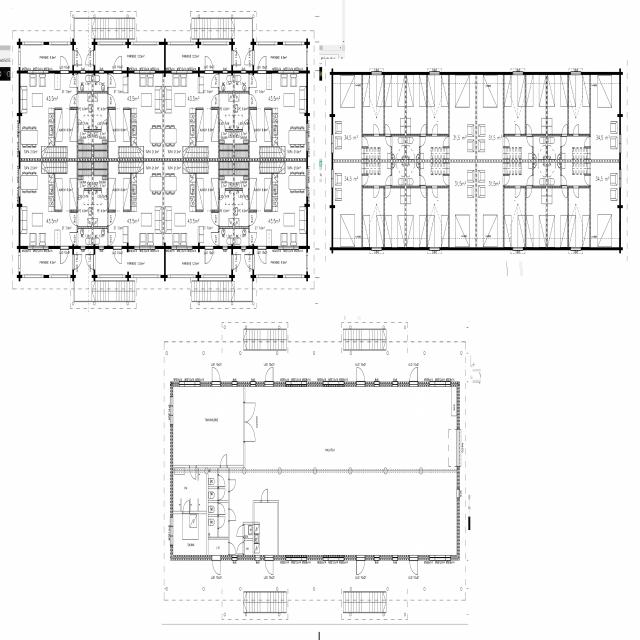door: (243, 422, 256, 442), (243, 403, 256, 422), (356, 555, 364, 575), (212, 367, 220, 387), (265, 367, 273, 387), (356, 367, 364, 387), (410, 367, 418, 387), (85, 254, 95, 270), (410, 555, 418, 574), (265, 555, 273, 574), (212, 555, 220, 574), (231, 50, 241, 65), (72, 255, 82, 269), (72, 50, 82, 64), (231, 255, 241, 269), (60, 246, 68, 263), (114, 246, 122, 263), (205, 246, 213, 263), (258, 246, 266, 263), (60, 56, 68, 73), (114, 56, 122, 73), (205, 56, 213, 73), (258, 56, 266, 73), (86, 50, 95, 65), (107, 74, 116, 88), (245, 255, 254, 269), (245, 50, 254, 64), (248, 94, 257, 107), (107, 233, 116, 245), (70, 232, 78, 245), (70, 213, 78, 226), (108, 94, 116, 107), (70, 94, 78, 107), (211, 74, 219, 87), (211, 94, 219, 107), (248, 232, 256, 245), (211, 232, 219, 245), (220, 454, 227, 468), (228, 509, 236, 521), (108, 213, 116, 225), (70, 75, 78, 87), (248, 75, 256, 87), (248, 213, 256, 225), (211, 213, 219, 225), (228, 480, 236, 491), (228, 543, 236, 554), (217, 489, 225, 500), (217, 503, 225, 514), (217, 517, 225, 528), (183, 500, 189, 514), (190, 465, 196, 479), (262, 489, 268, 503), (217, 476, 225, 486), (237, 543, 244, 554), (101, 120, 107, 132), (78, 188, 84, 200), (101, 188, 107, 200), (219, 120, 225, 132), (219, 188, 225, 200), (420, 124, 426, 136), (515, 124, 521, 136), (526, 124, 532, 136), (237, 526, 244, 536), (584, 175, 591, 185), (584, 136, 591, 146), (78, 120, 84, 131), (385, 186, 391, 197), (420, 186, 426, 197), (526, 186, 532, 197), (573, 125, 579, 136), (374, 185, 379, 198), (560, 137, 567, 146), (560, 176, 567, 185), (243, 188, 248, 200), (374, 124, 379, 136), (362, 137, 368, 147), (432, 124, 437, 136), (515, 186, 520, 198), (503, 137, 509, 147), (243, 120, 248, 131), (432, 186, 437, 197), (562, 186, 567, 197), (562, 125, 567, 136), (386, 176, 392, 185), (386, 137, 392, 146), (362, 176, 368, 185), (443, 137, 449, 146), (419, 137, 425, 146), (443, 176, 449, 185), (503, 176, 509, 185), (527, 176, 533, 185), (527, 137, 533, 146), (419, 176, 425, 184), (386, 125, 390, 136), (574, 186, 578, 197)
